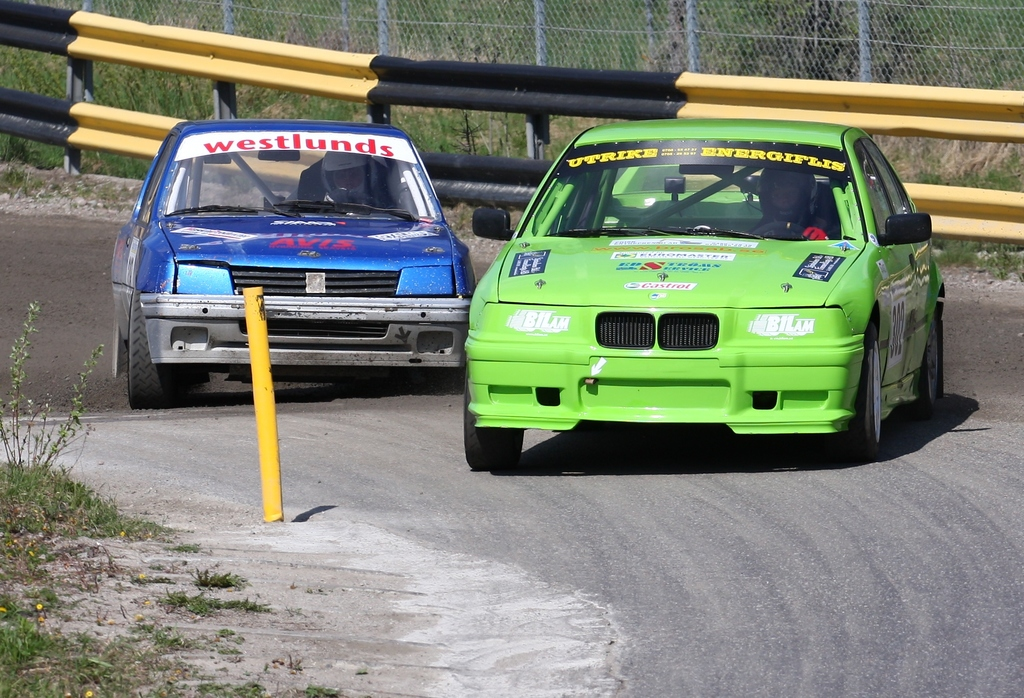Car: (461, 111, 951, 466), (110, 116, 476, 404)
